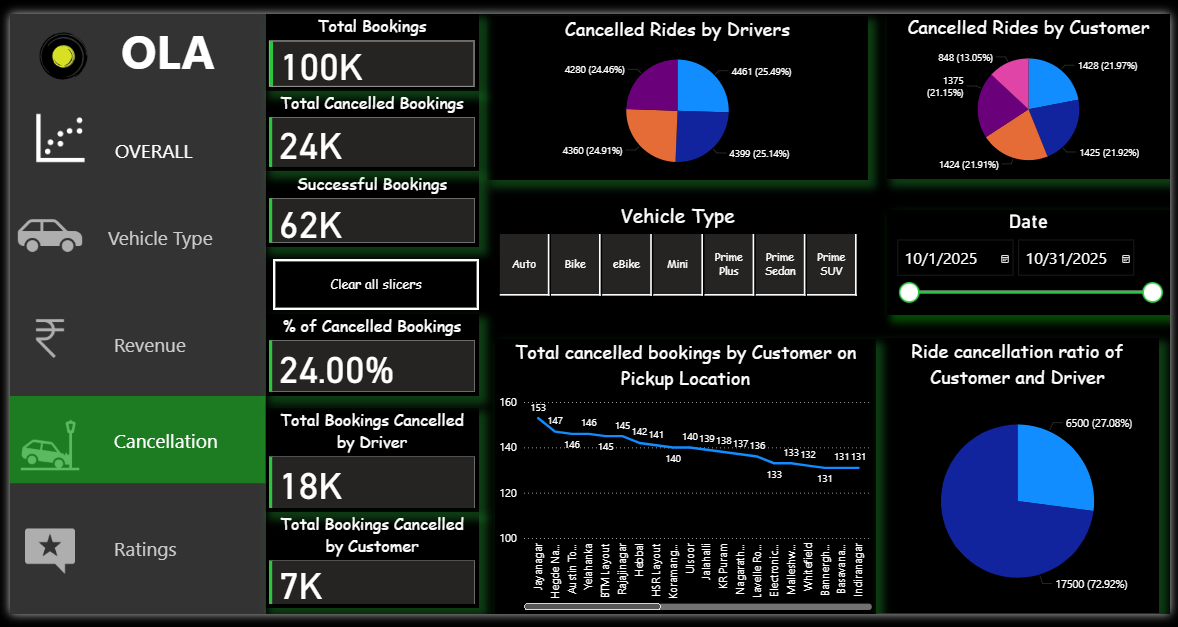

The page's visual inventory and layout, read from the dashboard file:
{"tool":"powerbi","page":{"name":"Cancellation","canvas":[1450,750],"ordinal":3},"visuals":[{"type":"shape","box":[0,0,318.8,748.8],"z":0},{"type":"textbox","box":[133.8,1.2,140,106.2],"z":1000},{"type":"textbox","box":[126.2,148.8,131.2,48.8],"z":2000},{"type":"textbox","box":[117.5,257.5,148.8,50],"z":3000},{"type":"image","box":[7.5,107.5,110,95],"z":4000},{"type":"image","box":[0,227.5,100,98.8],"z":5000},{"type":"image","box":[0,370,100,71.2],"z":6000},{"type":"image","box":[0,493.8,100,90],"z":7000},{"type":"image","box":[0,622.5,100,97.5],"z":8000},{"type":"textbox","box":[0,477.5,318.8,108.8],"z":9000},{"type":"actionButton","box":[0,235,318.8,93.8],"z":10000},{"type":"actionButton","box":[0,105,318.8,101.2],"z":11000},{"type":"image","box":[0,0,133.8,105],"z":12000},{"type":"textbox","box":[125,511.2,148.8,50],"z":13000},{"type":"textbox","box":[125,391.2,148.8,50],"z":14000},{"type":"textbox","box":[125,646.2,148.8,50],"z":15000},{"type":"actionButton","box":[0,622.5,318.8,113.8],"z":16000},{"type":"pieChart","title":"Cancelled Rides by Customer","fields":{"Y":["Sum(Bookings-OCT.Cancelled by Customer)"],"Category":["Bookings-OCT.Reason Cancelled by Customer"]},"box":[1096.2,0,353.8,206.2],"z":17000},{"type":"pieChart","title":"Cancelled Rides by Drivers","fields":{"Category":["Bookings-OCT.Reason Cancelled by Driver"],"Y":["Bookings-OCT.Total Cancelled bookings by Drivers"]},"box":[606.2,1.2,476.2,205],"z":18000},{"type":"cardVisual","title":"Successful Bookings","fields":{"Data":["CountNonNull(Bookings-OCT.Booking ID)"]},"box":[318.8,197.5,267.5,93.8],"z":19000},{"type":"slicer","title":"Date","fields":{"Values":["Bookings-OCT.Date"]},"box":[1096.2,245,353.8,131.2],"z":20000},{"type":"cardVisual","title":"Total Bookings","fields":{"Data":["CountNonNull(Bookings-OCT.Booking ID)"]},"box":[318.8,0,267.5,96.2],"z":21000},{"type":"actionButton","box":[0,358.6,318.6,94.3],"z":22000},{"type":"pieChart","title":"Ride cancellation ratio of Customer and Driver","fields":{"Y":["Sum(Bookings-OCT.Cancelled by Customer)","Sum(Bookings-OCT.Cancelled by Driver)"]},"box":[1082.5,405,353.8,343.8],"z":23000},{"type":"cardVisual","title":"Total Bookings Cancelled by Driver","fields":{"Data":["Bookings-OCT.Total Cancelled bookings by Drivers"]},"box":[318.8,493.8,267.5,130],"z":24000},{"type":"cardVisual","title":"% of Cancelled Bookings","fields":{"Data":["Bookings-OCT.% of Cancelled Bookings"]},"box":[318.8,391.2,267.5,102.5],"z":25000},{"type":"cardVisual","title":"Total Bookings Cancelled by Customer","fields":{"Data":["Bookings-OCT.Total Cancelled bokings by Customers"]},"box":[318.8,623.8,267.5,125],"z":26000},{"type":"cardVisual","title":"Total Cancelled Bookings","fields":{"Data":["CountNonNull(Bookings-OCT.Booking ID)"]},"box":[318.8,96.2,267.5,100],"z":27000},{"type":"lineChart","title":"Total cancelled bookings by Customer on Pickup Location","fields":{"Y":["Sum(Bookings-OCT.Cancelled by Customer)"],"Category":["Bookings-OCT.Pickup Location"]},"box":[606.2,406.2,476.2,343.8],"z":28000},{"type":"actionButton","box":[328.8,306.2,257.5,70],"z":29000},{"type":"slicer","title":"Vehicle Type","fields":{"Values":["Bookings-OCT.Vehicle Type"]},"box":[586.2,235,496.2,123.8],"z":30000}]}

Visuals, with their boxes in screenshot pixels (x1, y1, x2, y2), scaled from the page's 1450x750 canvas onto the 1178x627 screenshot:
shape: pyautogui.locateOnScreen(0, 0, 259, 626)
textbox: pyautogui.locateOnScreen(109, 1, 222, 90)
textbox: pyautogui.locateOnScreen(103, 124, 209, 165)
textbox: pyautogui.locateOnScreen(95, 215, 216, 257)
image: pyautogui.locateOnScreen(6, 90, 95, 169)
image: pyautogui.locateOnScreen(0, 190, 81, 273)
image: pyautogui.locateOnScreen(0, 309, 81, 369)
image: pyautogui.locateOnScreen(0, 413, 81, 488)
image: pyautogui.locateOnScreen(0, 520, 81, 602)
textbox: pyautogui.locateOnScreen(0, 399, 259, 490)
actionButton: pyautogui.locateOnScreen(0, 196, 259, 275)
actionButton: pyautogui.locateOnScreen(0, 88, 259, 172)
image: pyautogui.locateOnScreen(0, 0, 109, 88)
textbox: pyautogui.locateOnScreen(102, 427, 222, 469)
textbox: pyautogui.locateOnScreen(102, 327, 222, 369)
textbox: pyautogui.locateOnScreen(102, 540, 222, 582)
actionButton: pyautogui.locateOnScreen(0, 520, 259, 616)
"Cancelled Rides by Customer" pieChart: pyautogui.locateOnScreen(891, 0, 1177, 172)
"Cancelled Rides by Drivers" pieChart: pyautogui.locateOnScreen(492, 1, 879, 172)
"Successful Bookings" cardVisual: pyautogui.locateOnScreen(259, 165, 476, 244)
"Date" slicer: pyautogui.locateOnScreen(891, 205, 1177, 315)
"Total Bookings" cardVisual: pyautogui.locateOnScreen(259, 0, 476, 80)
actionButton: pyautogui.locateOnScreen(0, 300, 259, 379)
"Ride cancellation ratio of Customer and Driver" pieChart: pyautogui.locateOnScreen(879, 339, 1167, 626)
"Total Bookings Cancelled by Driver" cardVisual: pyautogui.locateOnScreen(259, 413, 476, 521)
"% of Cancelled Bookings" cardVisual: pyautogui.locateOnScreen(259, 327, 476, 413)
"Total Bookings Cancelled by Customer" cardVisual: pyautogui.locateOnScreen(259, 521, 476, 626)
"Total Cancelled Bookings" cardVisual: pyautogui.locateOnScreen(259, 80, 476, 164)
"Total cancelled bookings by Customer on Pickup Location" lineChart: pyautogui.locateOnScreen(492, 340, 879, 626)
actionButton: pyautogui.locateOnScreen(267, 256, 476, 315)
"Vehicle Type" slicer: pyautogui.locateOnScreen(476, 196, 879, 300)
